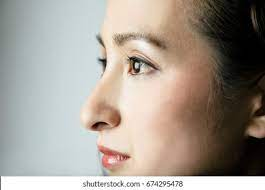n.sharp: (80, 63, 120, 130)
